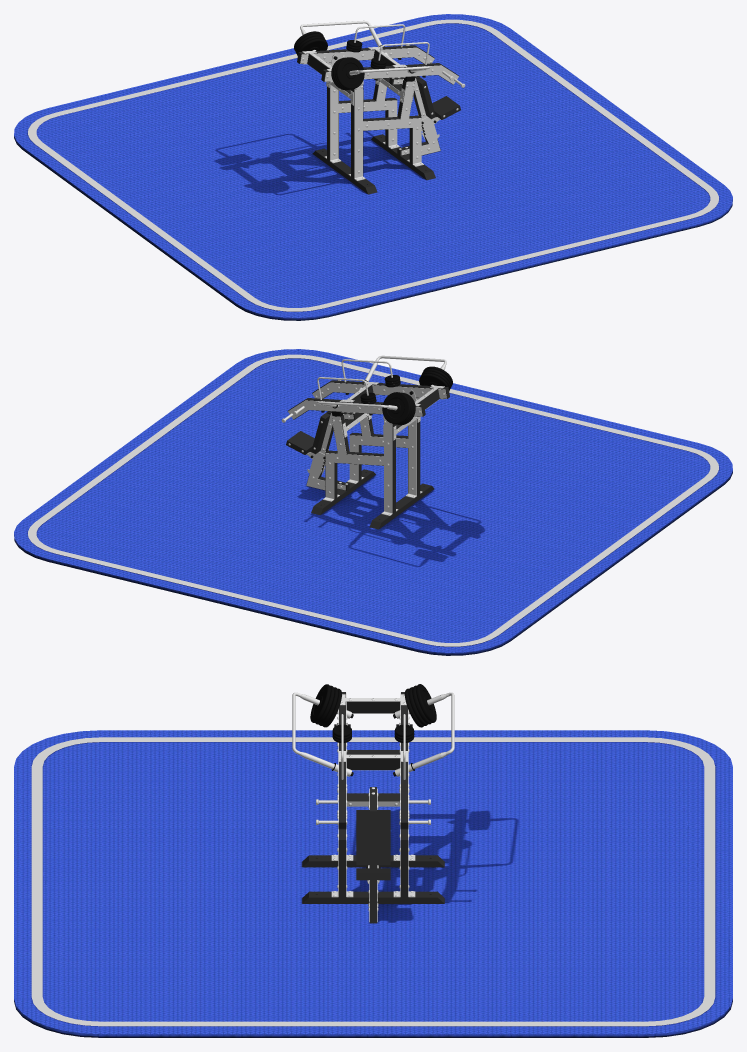
3 renders of one model, top to bottom at view 1: azimuth 30°, elevation 25°; view 2: azimuth 150°, elevation 25°; view 3: azimuth 270°, elevation 25°, orthographic. The views are drawn at different scales.
Parts seen in each view (by area): view 1: rubber_plate.001, border, Elements white, Elements gray, Elements black, Elements chrome, Cap white met; view 2: rubber_plate.001, border, Elements white, Elements gray, Elements black, Elements chrome, Cap white met; view 3: rubber_plate.001, border, Elements gray, Elements black, Elements chrome, Elements white, Cap white met.
Boxes of the visible parts, bbox=[...] form: rubber_plate.001: bbox=[14, 14, 732, 320]; border: bbox=[28, 19, 718, 311]; Elements white: bbox=[300, 46, 458, 180]; Elements gray: bbox=[297, 45, 460, 194]; Elements black: bbox=[294, 31, 414, 90]; Elements chrome: bbox=[300, 20, 465, 87]; Cap white met: bbox=[302, 47, 458, 179]; rubber_plate.001: bbox=[14, 349, 732, 655]; border: bbox=[28, 354, 718, 646]; Elements white: bbox=[288, 381, 446, 515]; Elements gray: bbox=[286, 380, 449, 529]; Elements black: bbox=[332, 366, 452, 425]; Elements chrome: bbox=[281, 355, 446, 422]; Cap white met: bbox=[288, 382, 444, 514]; rubber_plate.001: bbox=[14, 730, 732, 1037]; border: bbox=[31, 737, 715, 1026]; Elements gray: bbox=[302, 692, 444, 923]; Elements black: bbox=[310, 684, 436, 770]; Elements chrome: bbox=[292, 692, 454, 824]; Elements white: bbox=[331, 692, 415, 922]; Cap white met: bbox=[333, 695, 413, 910].
Size of what is drawn, in the model's own units: 6.26 by 1.65 by 6.26.
7 materials, 1 textured.
